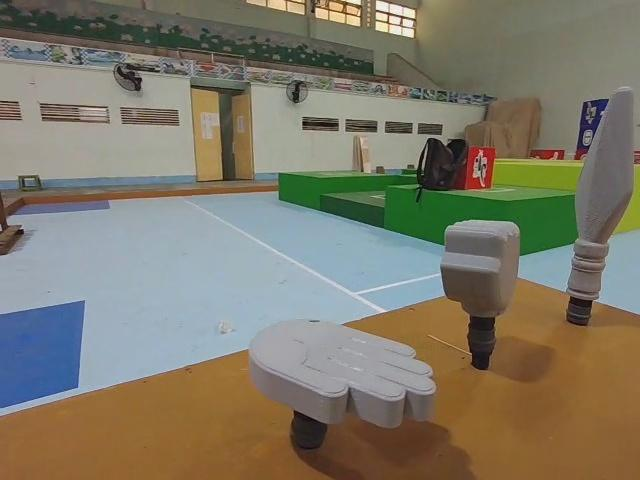Fist: (439, 217, 525, 370)
Hand: (248, 316, 443, 462)
Sph: (561, 87, 635, 338)
